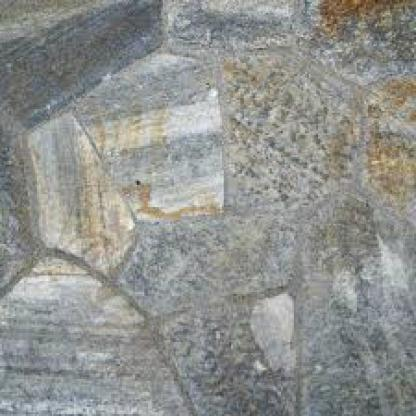Metamorphic_Quartize: (2, 4, 412, 414)
